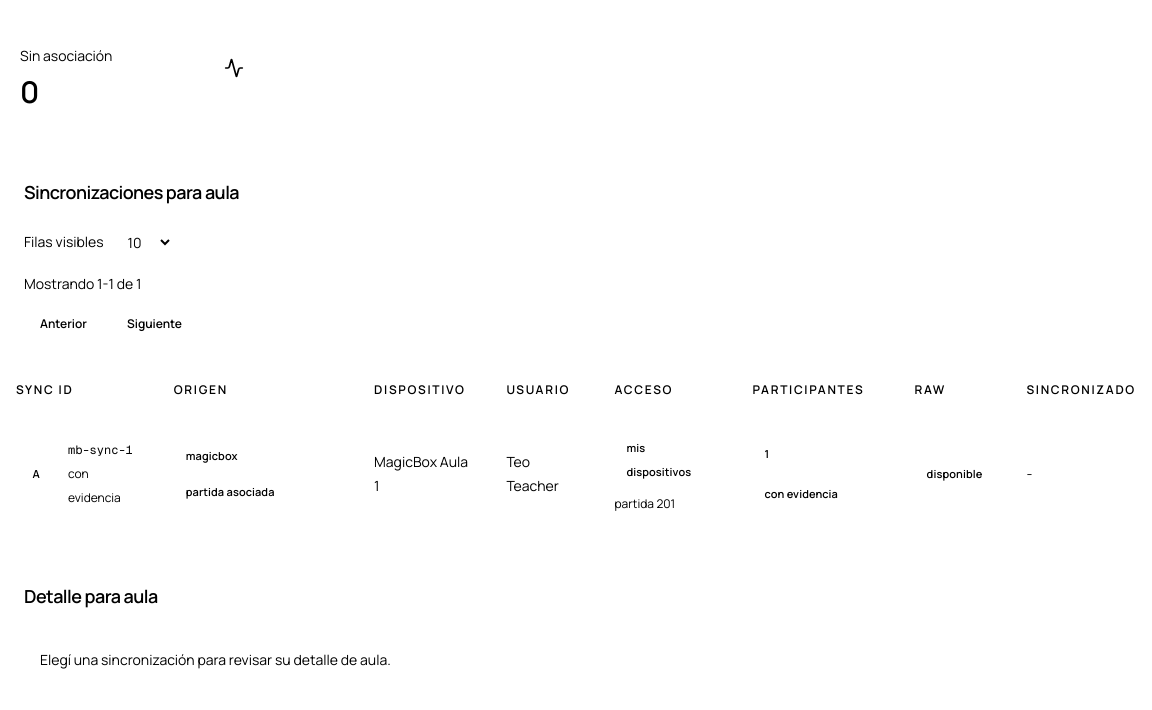
SyncsTable › adapts operational sync reading to a teacher-oriented framing
(page scrolled)
Click the text "mb-sync-1".
click(105, 450)  # box [68, 438, 142, 462]
(page scrolled)
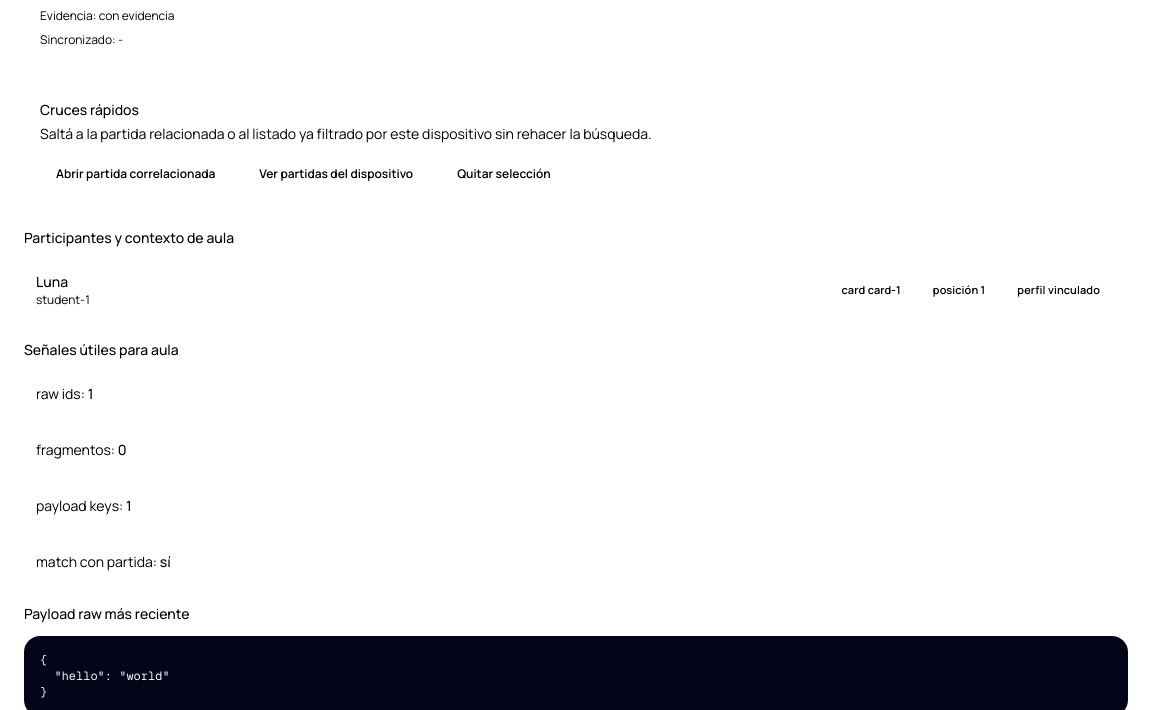
Result: the text "Participantes y contexto de aula" is shown at [24, 228, 234, 247]
Result: the text "Señales útiles para aula" is shown at [24, 340, 179, 359]
